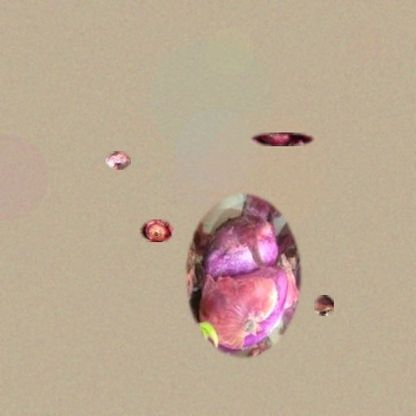damaged: (182, 188, 304, 362)
healthy: (249, 132, 314, 146), (140, 219, 174, 242)
rotten: (106, 151, 131, 170)
sprouted: (314, 295, 334, 316)
